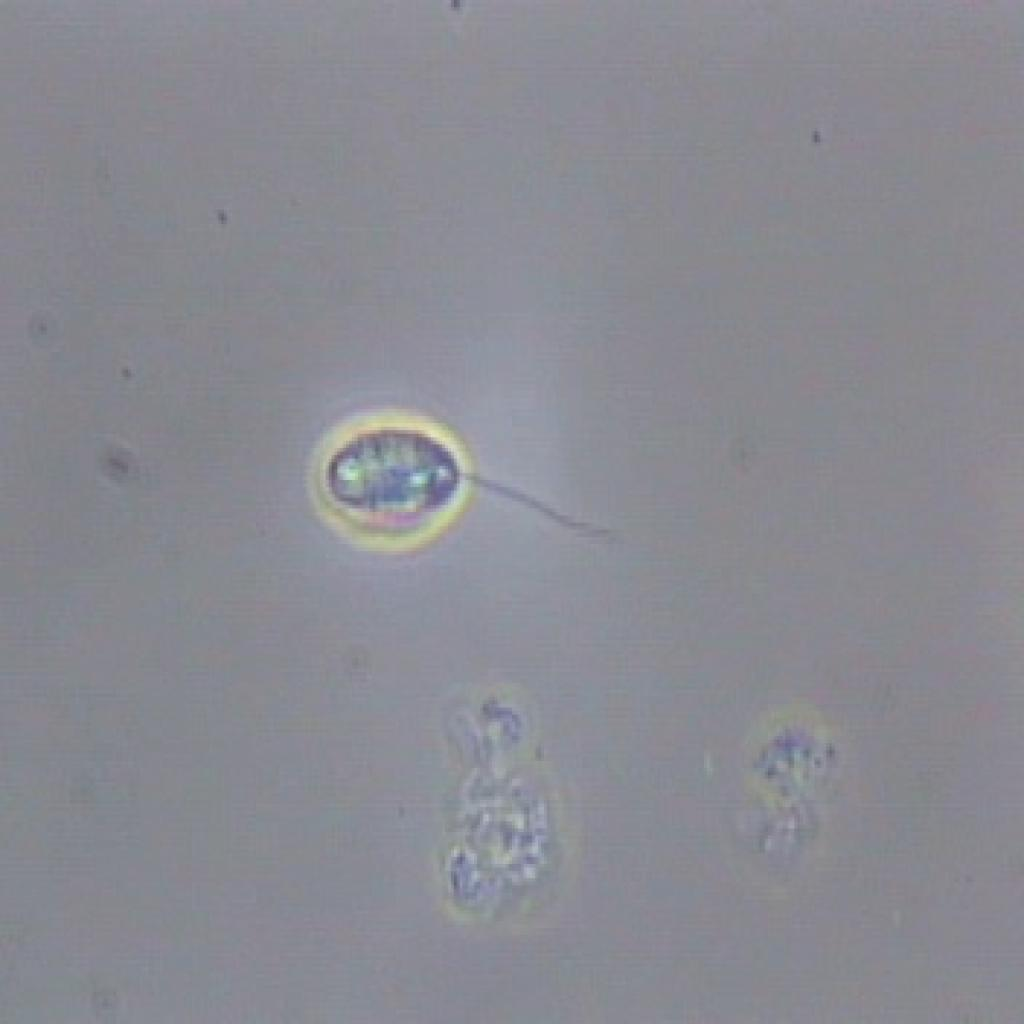Flagellates: (282, 396, 623, 578)
